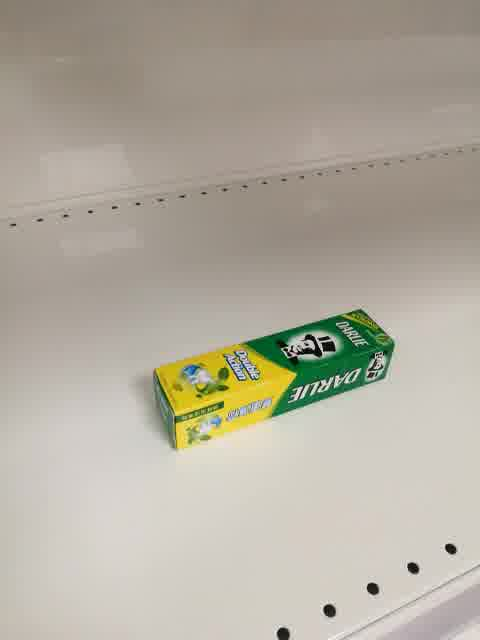toothpaste: (153, 310, 396, 451)
